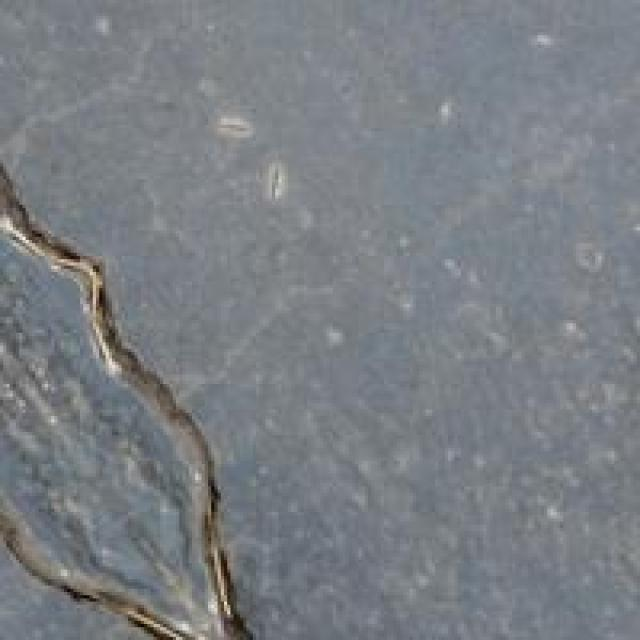crack: (10, 169, 307, 636)
